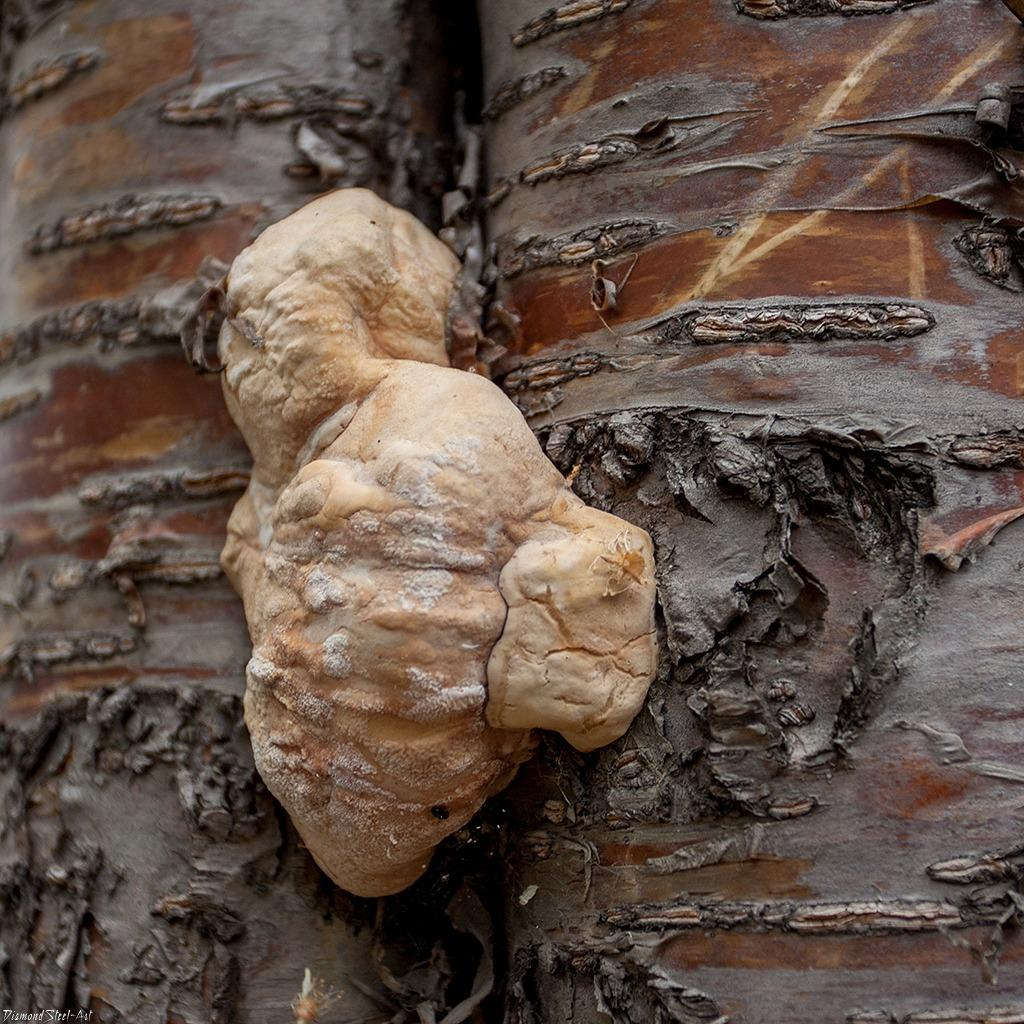Sulphur-yellow tinder fungus: (219, 189, 655, 895)
